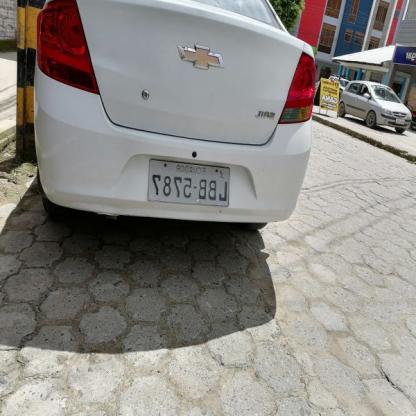Placa: (145, 158, 235, 204)
